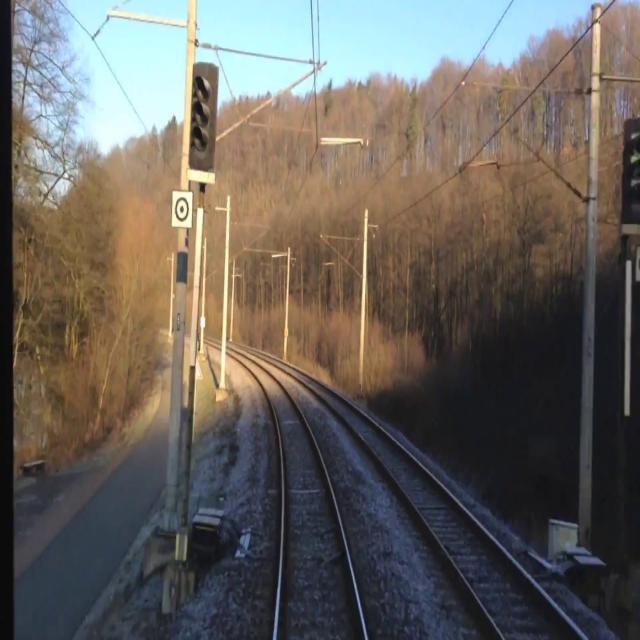rail-track: (292, 371, 581, 639), (234, 353, 363, 639)
